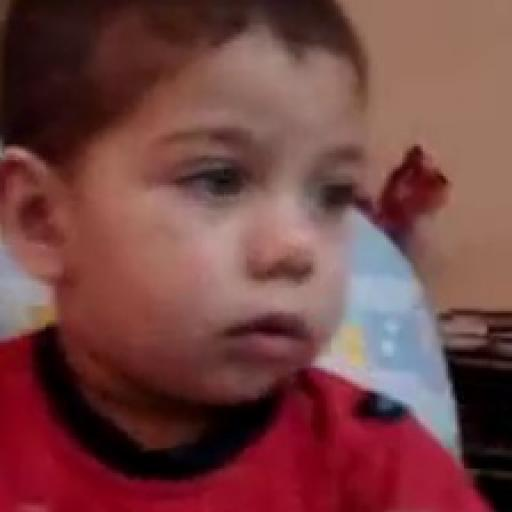Autism: (21, 0, 430, 465)
